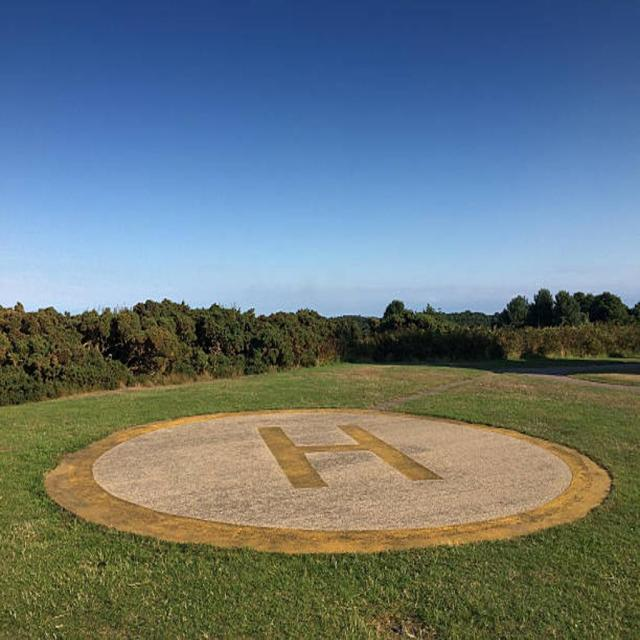helipad: (42, 406, 614, 555)
